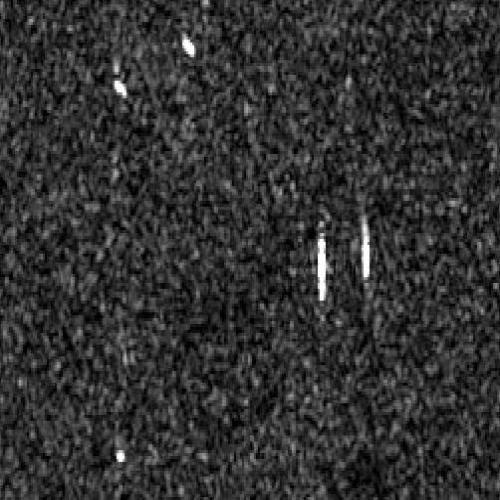ship: (316, 226, 328, 306), (360, 220, 371, 281), (179, 32, 197, 59), (112, 78, 129, 100), (115, 450, 126, 465)
